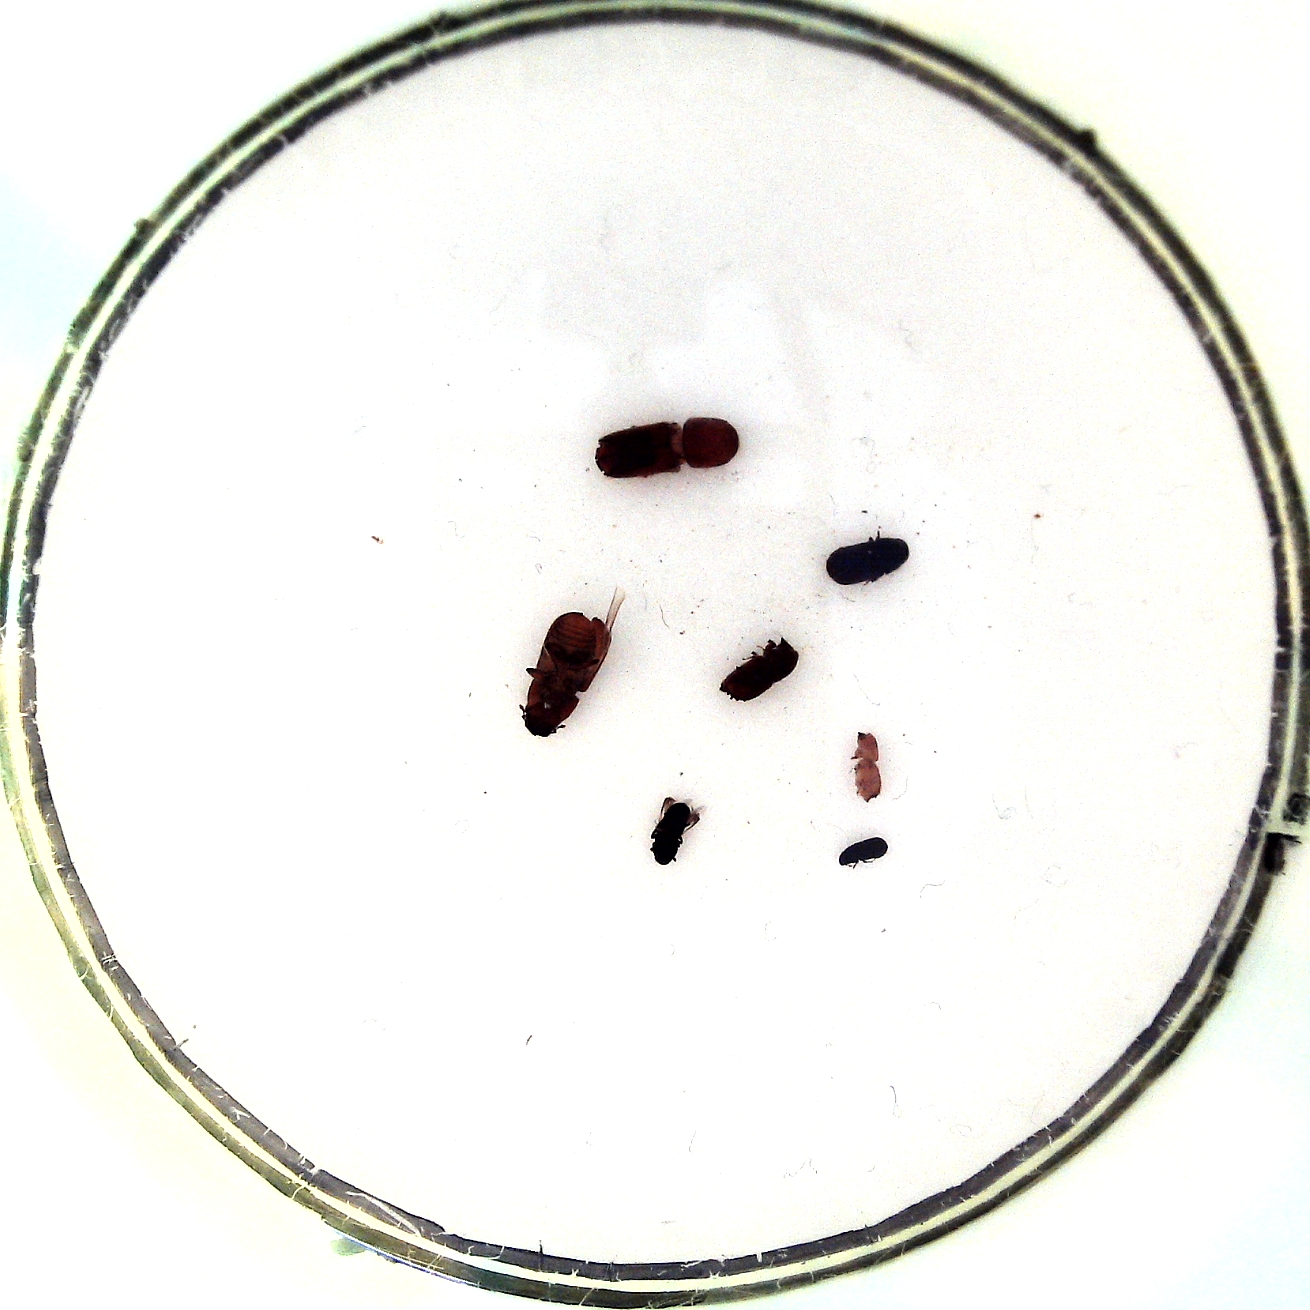Boerner: (589, 414, 752, 486)
Leconte: (516, 581, 630, 743)
Linnaeus: (713, 629, 807, 704)
acuminatus: (847, 722, 891, 806)
armandi: (819, 527, 919, 593)
coleoptera: (642, 791, 716, 869), (834, 827, 894, 876)
